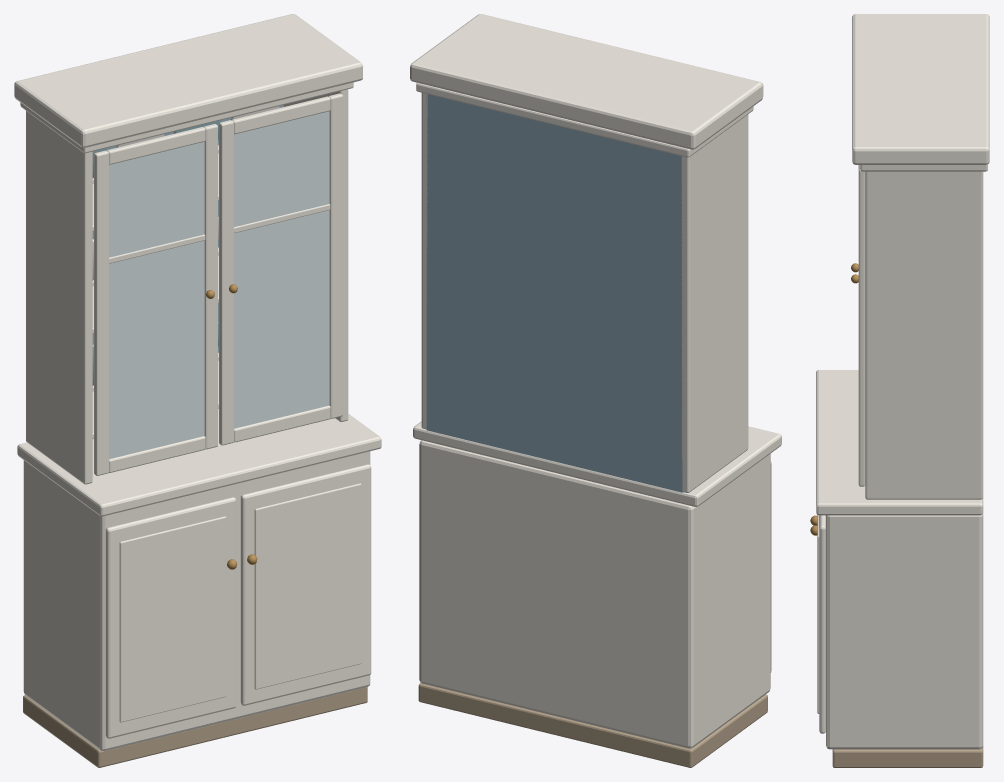
Rendered from chinaCabinet.glb.
The picture shows the model from 3 angles, left to right: view 1: azimuth 30°, elevation 25°; view 2: azimuth 150°, elevation 25°; view 3: azimuth 270°, elevation 25°; orthographic projection. The views are drawn at different scales.
Visible parts, largest first — view 1: body, glass_door-1, glass_door1; view 2: body; view 3: body, glass_door-1.
Part boxes in pixels (x1=…): body: x1=14, y1=14, x2=381, y2=767; glass_door-1: x1=219, y1=93, x2=342, y2=445; glass_door1: x1=94, y1=124, x2=217, y2=475; body: x1=410, y1=14, x2=781, y2=767; body: x1=810, y1=14, x2=989, y2=767; glass_door-1: x1=851, y1=165, x2=865, y2=486.
Bounding box in the file's own units: 0.98 × 2.1 × 0.548.
